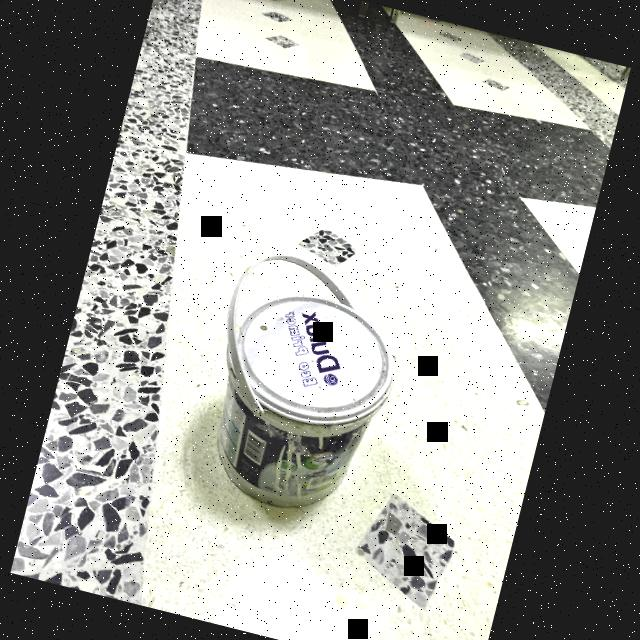paint_bucket: (191, 262, 411, 531)
